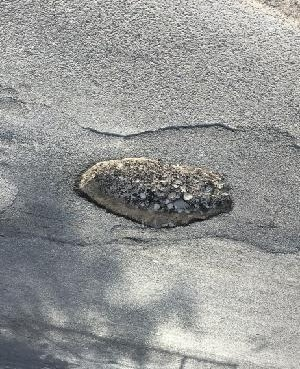pothole: (70, 156, 236, 233)
